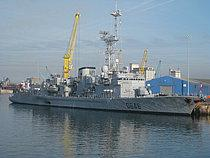MIL_Ship: (7, 45, 203, 117)
